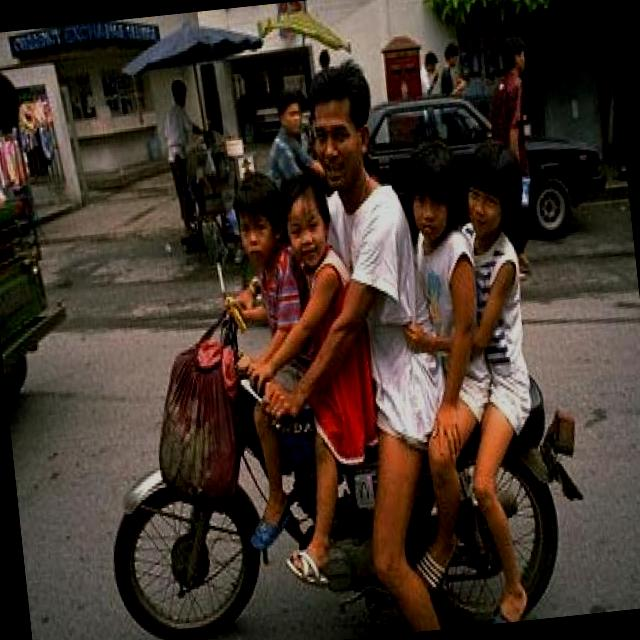motorcycle: (89, 297, 594, 640)
person: (296, 60, 434, 515), (378, 135, 497, 502), (442, 132, 558, 494), (264, 171, 372, 460), (218, 162, 312, 430)
rider_region: (57, 35, 597, 640)
